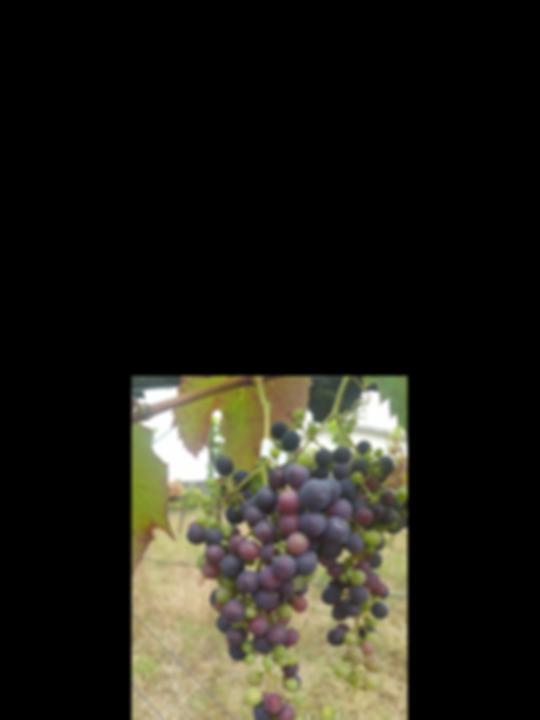grape: (185, 419, 354, 720)
